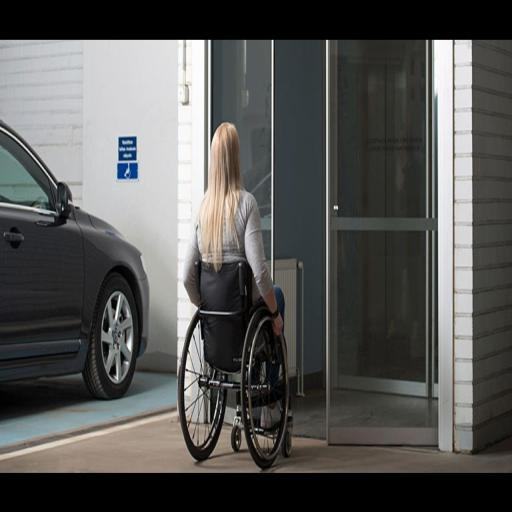cadeira_de_rodas: (158, 119, 316, 467)
